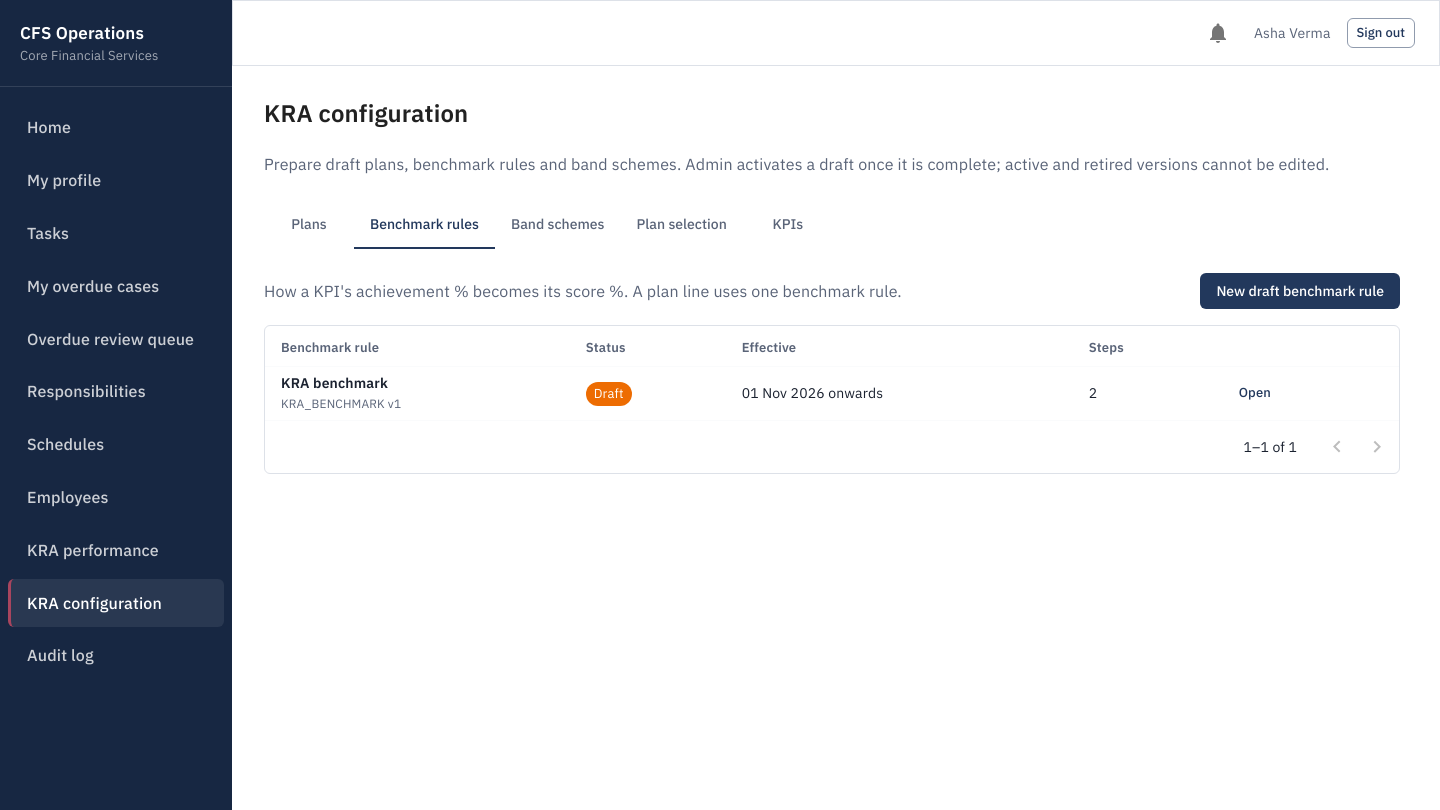
Benchmark rules and band schemes (Phase 7.5A) › lists benchmark rules and opens one with its steps
Click the link with aria-label "Open KRA_BENCHMARK v1" at x=1255, y=393, box [1239, 384, 1271, 401]
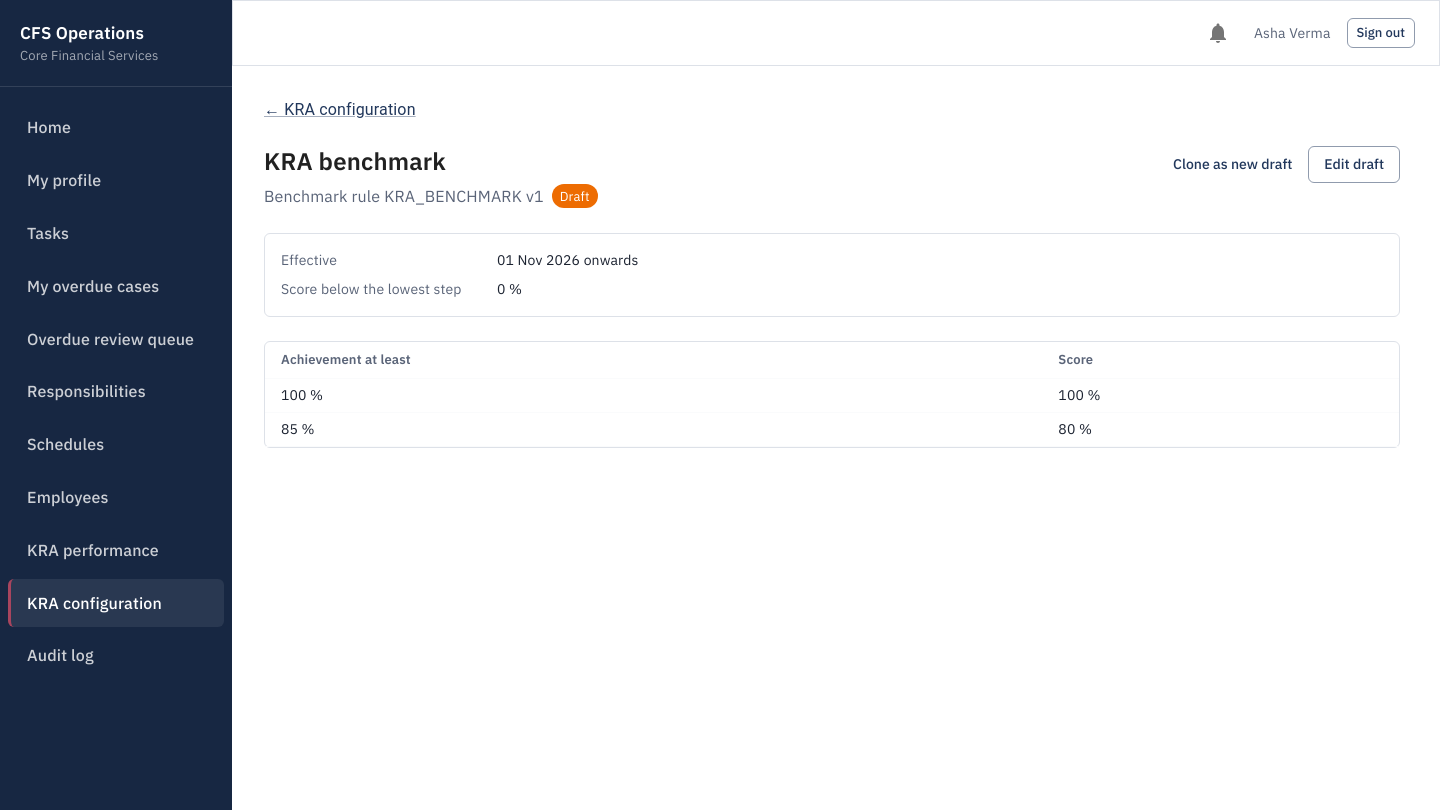
Now the text "85 %" is shown, box [265, 412, 1042, 446]
Now the text "80 %" is shown, box [1042, 412, 1399, 446]
